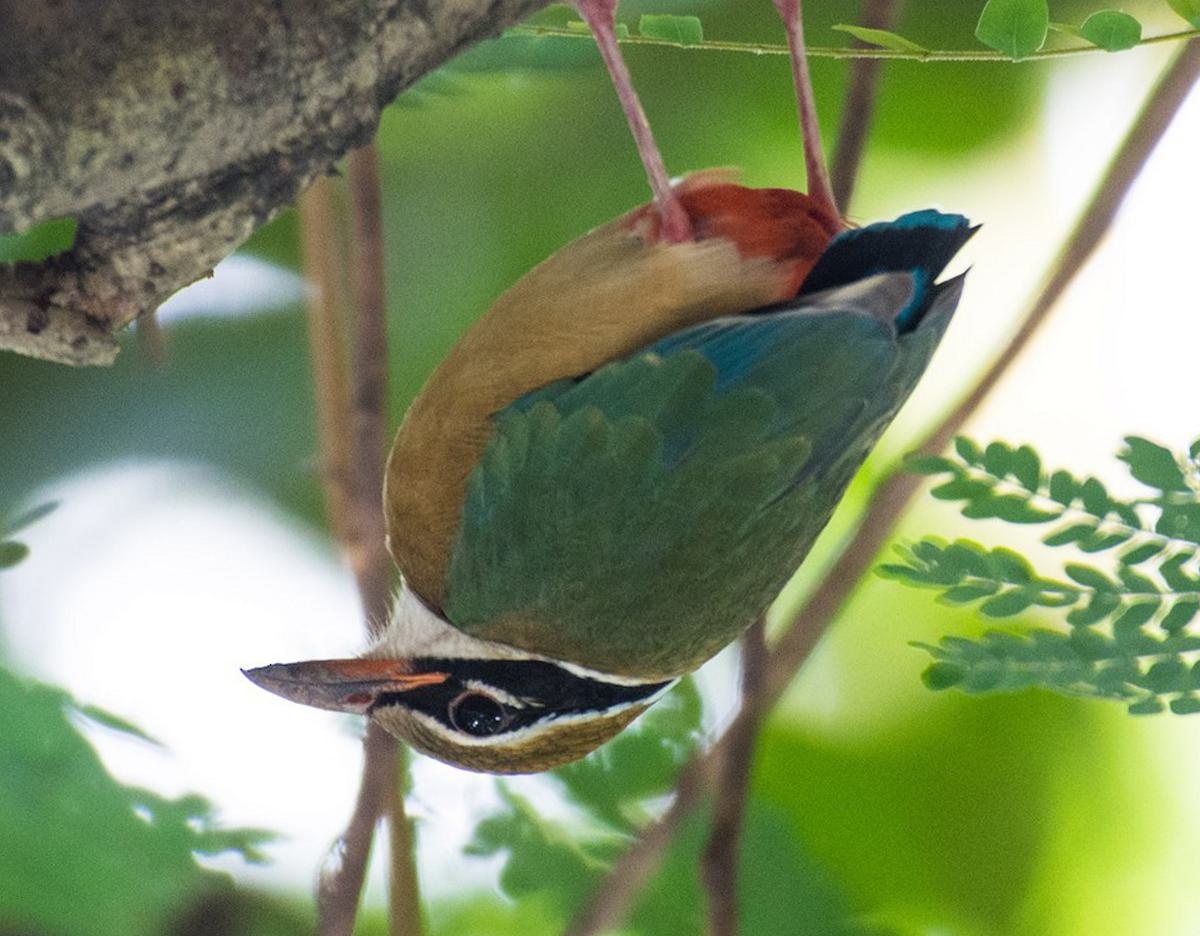pitta: (239, 85, 996, 782)
